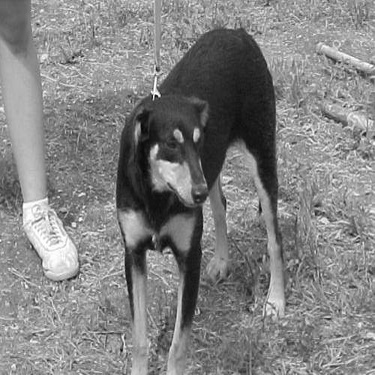dog: (111, 19, 293, 372)
